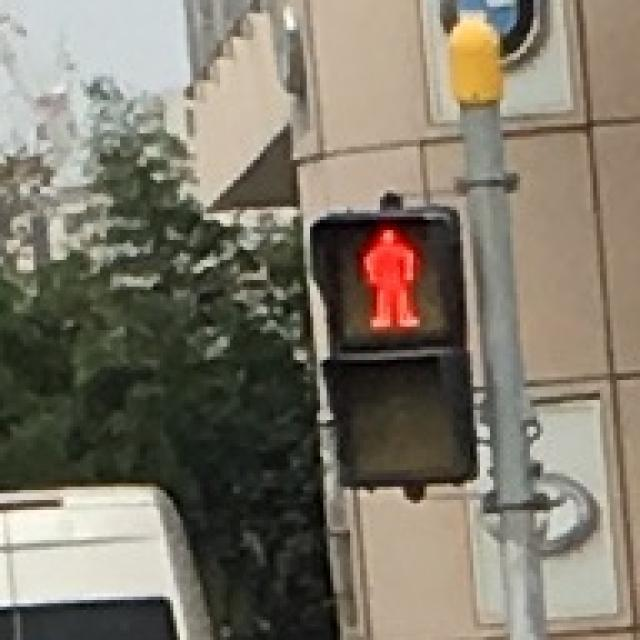red-crossing: (330, 218, 437, 332)
